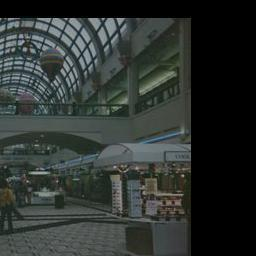Bote de Basura: (55, 194, 66, 210)
